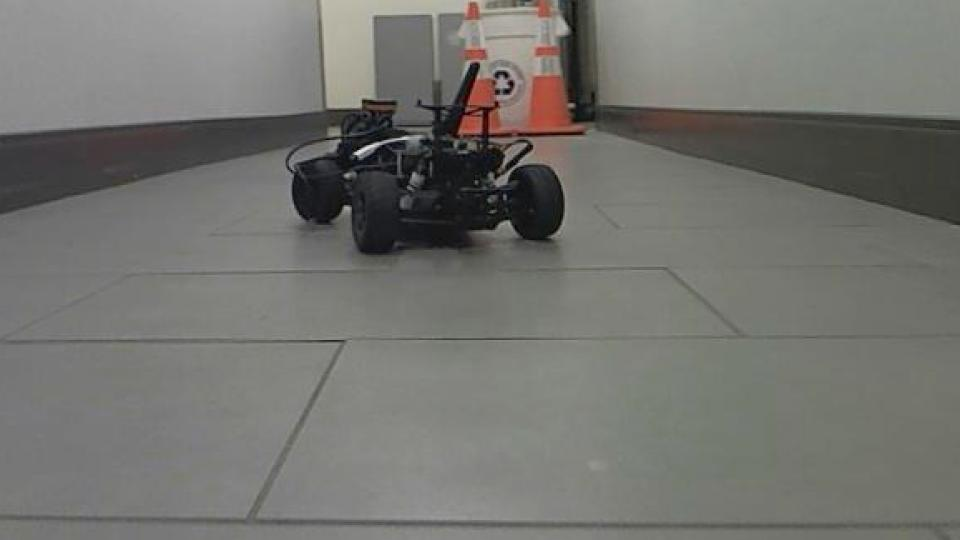car: (282, 55, 568, 257)
